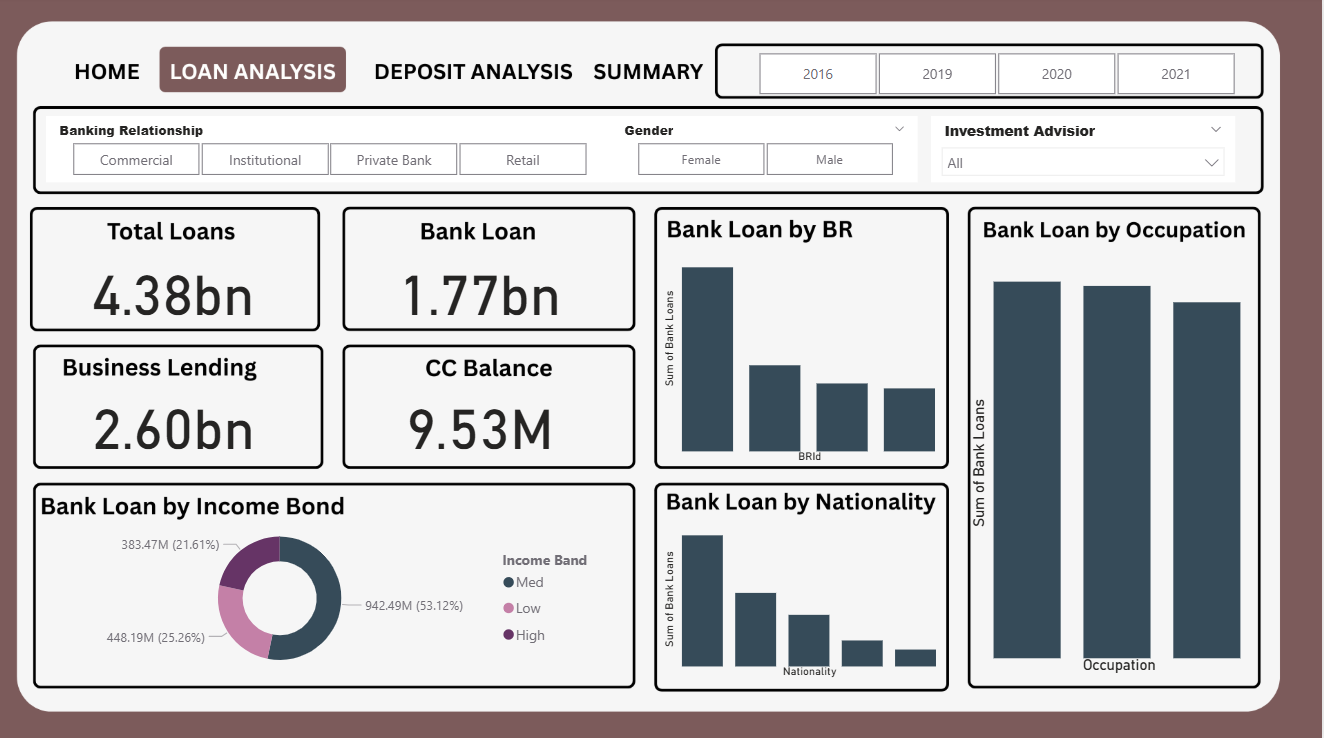

Layout of this report page (visuals, bound fields, positions):
{"tool":"powerbi","page":{"name":"Loan Analysis","canvas":[1280,720],"ordinal":1},"visuals":[{"type":"slicer","fields":{"Values":["banking-clients.Joined Bank.Variation.Date Hierarchy.Year"]},"box":[710.8,48,509.1,53.5],"z":0},{"type":"actionButton","box":[54.9,54.9,100.2,39.8],"z":1000},{"type":"actionButton","box":[569.5,59,113.9,32.9],"z":2000},{"type":"actionButton","box":[351.3,59,218.2,32.9],"z":3000},{"type":"card","fields":{"Values":["banking-clients.Total Loan"]},"box":[68.6,248.4,204.5,67.2],"z":4000},{"type":"card","fields":{"Values":["Sum(banking-clients.Bank Loans)"]},"box":[364.3,248.5,205.1,67.6],"z":5000},{"type":"card","fields":{"Values":["Sum(banking-clients.Business Lending)"]},"box":[68.8,377.6,205.1,67.6],"z":6000},{"type":"card","fields":{"Values":["Sum(banking-clients.Credit Card Balance)"]},"box":[364.3,377.6,205.1,67.6],"z":7000},{"type":"donutChart","fields":{"Category":["banking-clients.Income Band"],"Y":["Sum(banking-clients.Bank Loans)"]},"box":[54.3,500.7,539.3,161.7],"z":8000},{"type":"clusteredColumnChart","fields":{"Category":["banking-clients.BRId"],"Y":["Sum(banking-clients.Bank Loans)"]},"box":[640,208,274.7,248],"z":9000},{"type":"clusteredColumnChart","fields":{"Category":["banking-clients.Nationality"],"Y":["Sum(banking-clients.Bank Loans)"]},"box":[640,502.7,274.7,160],"z":10000},{"type":"clusteredColumnChart","fields":{"Category":["banking-clients.Occupation"],"Y":["Sum(banking-clients.Bank Loans)"]},"box":[936,248,274.7,410.7],"z":11000},{"type":"slicer","fields":{"Values":["banking-clients.BRId"]},"box":[48,116,545.3,64],"z":12000},{"type":"slicer","fields":{"Values":["banking-clients.GenderId"]},"box":[593.3,116,296,64],"z":13000},{"type":"slicer","fields":{"Values":["banking-clients.IAId"]},"box":[902.7,116,293.3,64],"z":14000}]}

Visuals, with their boxes in screenshot pixels (x1, y1, x2, y2), scaled from the page's 1280x720 canvas onto the 1324x738 screenshot:
slicer - banking-clients.Joined Bank.Variation.Date Hierarchy.Year: [left=735, top=49, right=1262, bottom=104]
actionButton: [left=57, top=56, right=160, bottom=97]
actionButton: [left=589, top=60, right=707, bottom=94]
actionButton: [left=363, top=60, right=589, bottom=94]
card - banking-clients.Total Loan: [left=71, top=255, right=282, bottom=323]
card - Sum(banking-clients.Bank Loans): [left=377, top=255, right=589, bottom=324]
card - Sum(banking-clients.Business Lending): [left=71, top=387, right=283, bottom=456]
card - Sum(banking-clients.Credit Card Balance): [left=377, top=387, right=589, bottom=456]
donutChart - banking-clients.Income Band x Sum(banking-clients.Bank Loans): [left=56, top=513, right=614, bottom=679]
clusteredColumnChart - banking-clients.BRId x Sum(banking-clients.Bank Loans): [left=662, top=213, right=946, bottom=467]
clusteredColumnChart - banking-clients.Nationality x Sum(banking-clients.Bank Loans): [left=662, top=515, right=946, bottom=679]
clusteredColumnChart - banking-clients.Occupation x Sum(banking-clients.Bank Loans): [left=968, top=254, right=1252, bottom=675]
slicer - banking-clients.BRId: [left=50, top=119, right=614, bottom=184]
slicer - banking-clients.GenderId: [left=614, top=119, right=920, bottom=184]
slicer - banking-clients.IAId: [left=934, top=119, right=1237, bottom=184]
